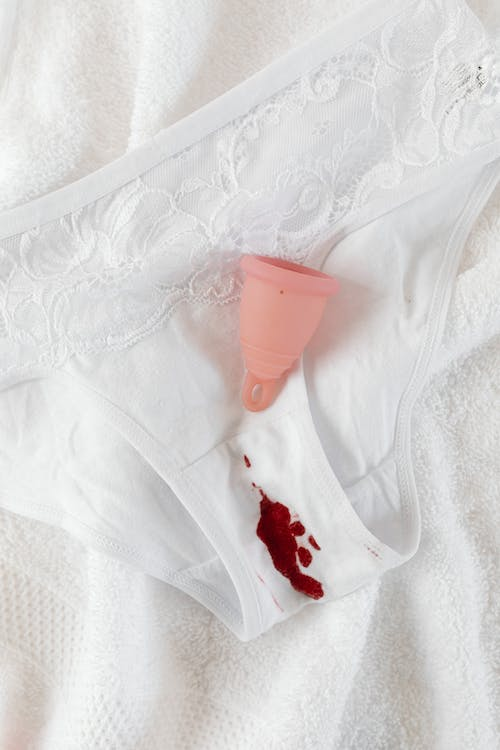blood: (240, 448, 384, 618)
